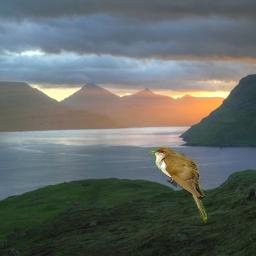Cuckoo: (148, 146, 207, 223)
